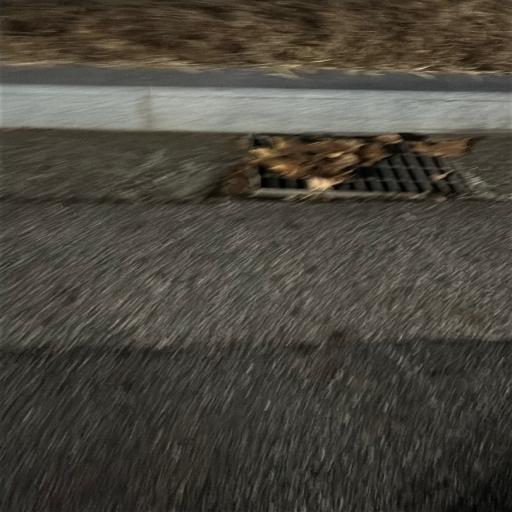debris: (426, 170, 443, 190), (442, 186, 448, 191), (454, 184, 458, 189), (340, 189, 347, 191)
drain: (259, 132, 481, 196)
